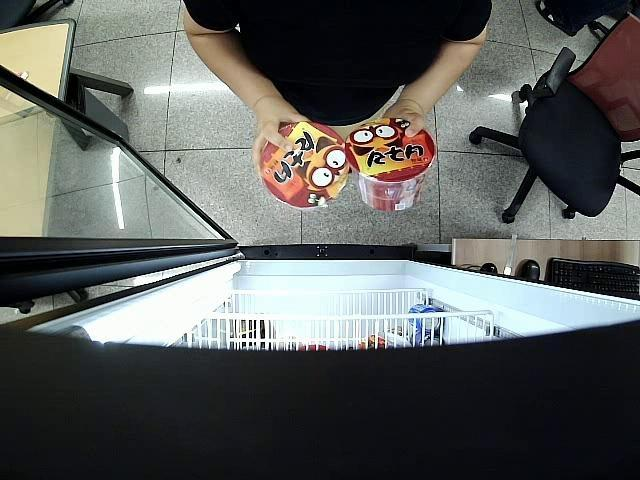05_nuguri_L: (346, 117, 436, 211), (259, 121, 349, 207)
